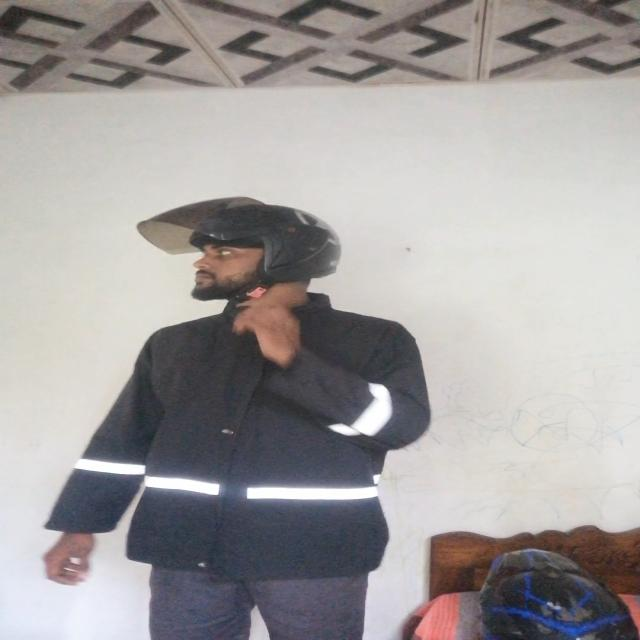Helmet_Wearer: (130, 204, 364, 304)
Jacket_Wearer: (71, 279, 428, 602)
Person: (73, 199, 440, 640)
